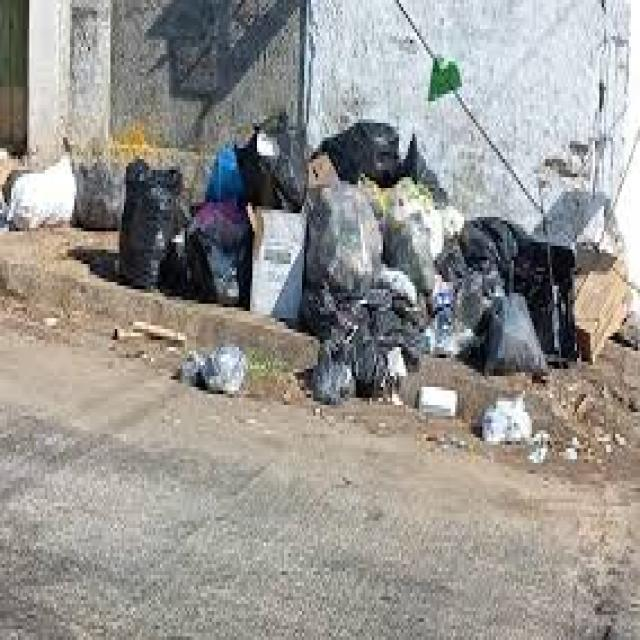garbage: (0, 64, 579, 448)
